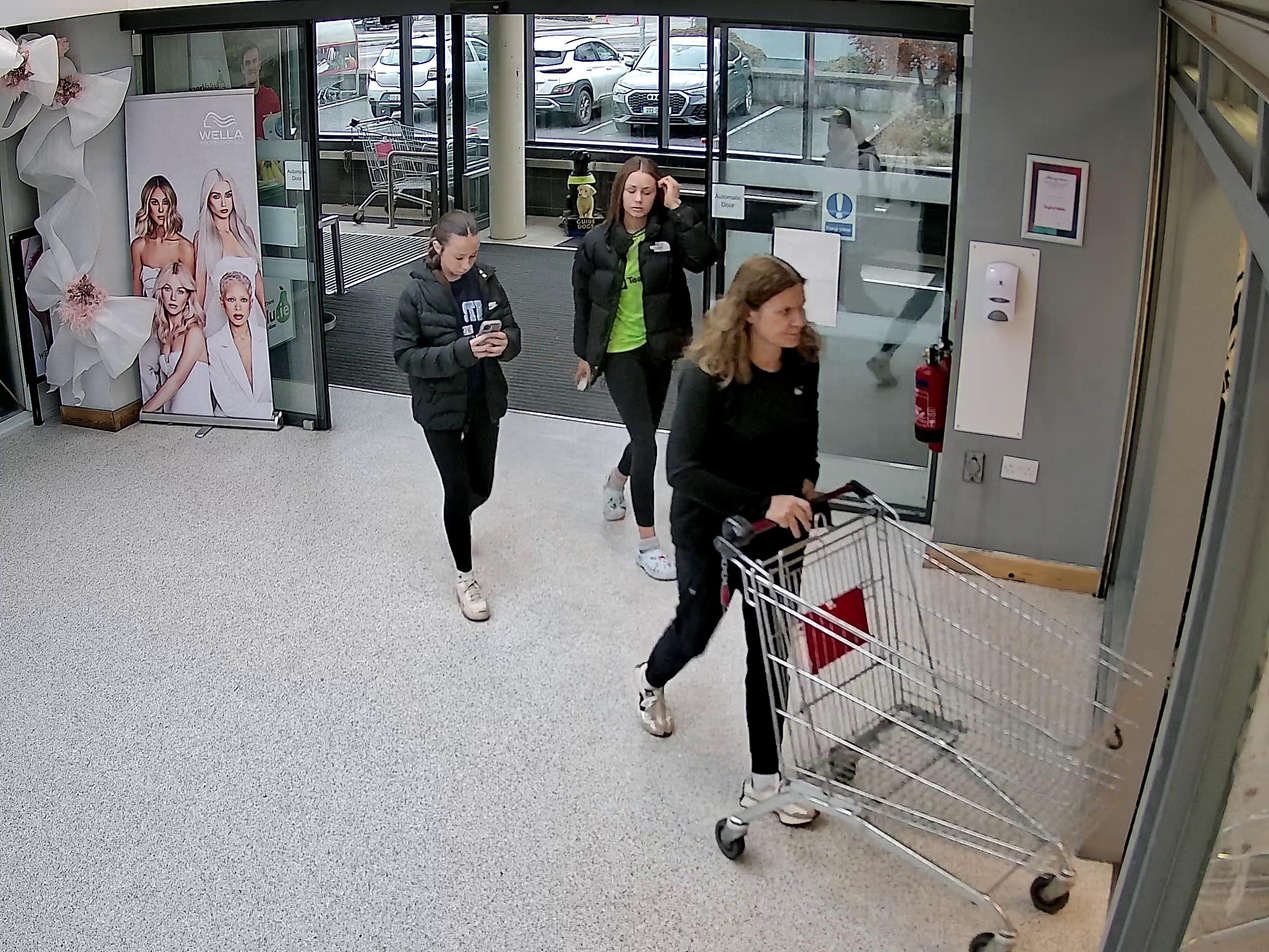empty-trolly: (715, 480, 1164, 952)
person: (638, 255, 824, 826)
person-with-empty-basket-trolly: (638, 253, 1164, 952)
